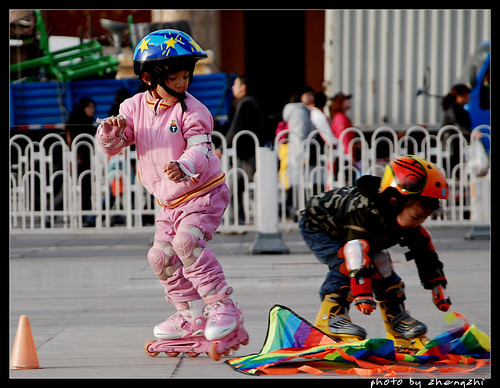helmet: (129, 15, 214, 62), (379, 153, 449, 193)
